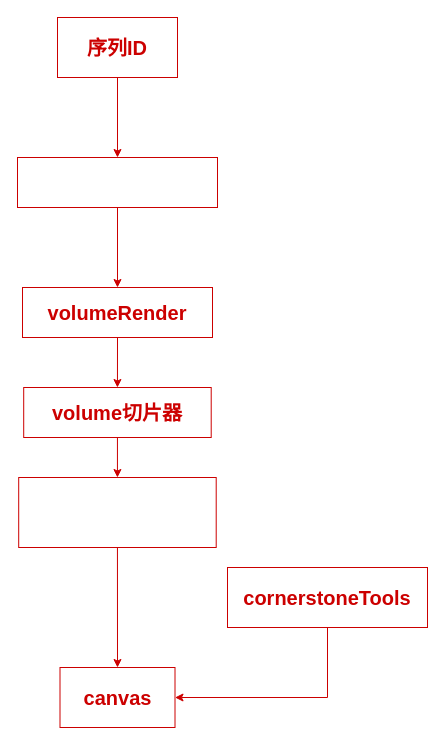
Some shapes in this 445 by 745 pixel diagram are drawn without their labels. Here are the shapes that lost their labels. From the top down, the box of each, then its label:
(16, 156, 218, 208): dicom加载器
(18, 476, 216, 548): cornerstone
